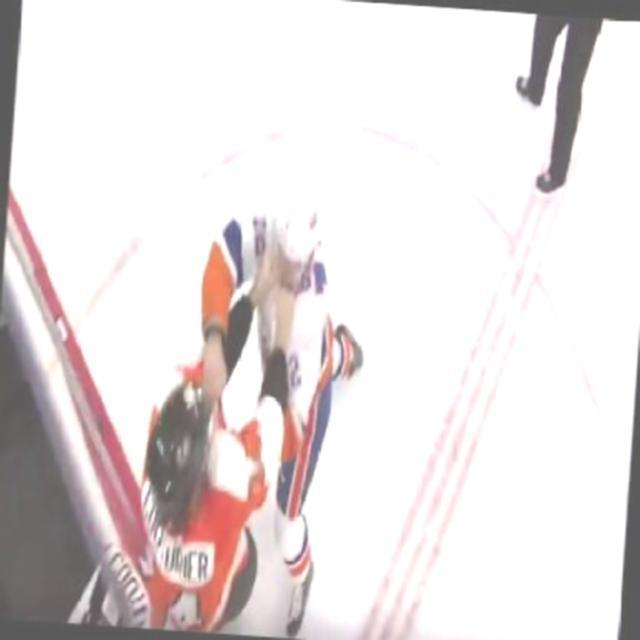fight: (127, 166, 380, 639)
